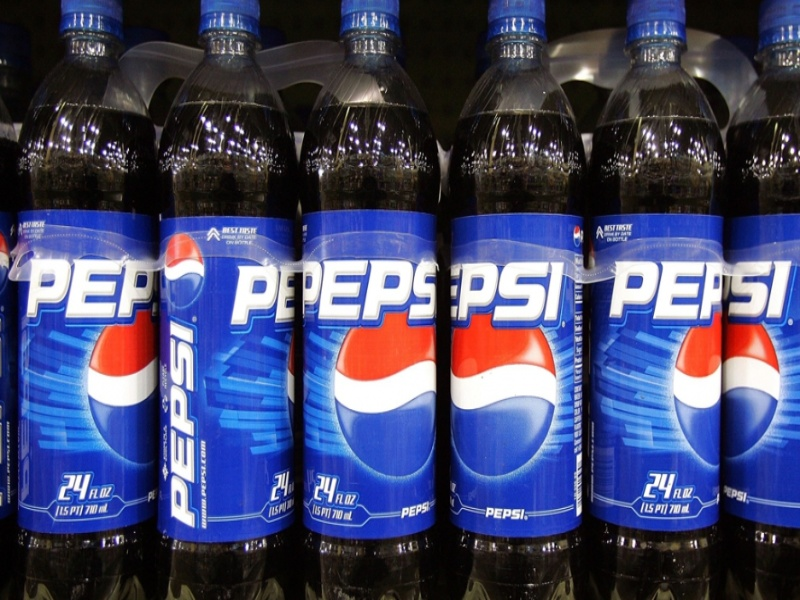Plastic bottle: (6, 1, 184, 589), (567, 7, 738, 600), (450, 6, 609, 587), (301, 11, 460, 591), (150, 12, 311, 571)
